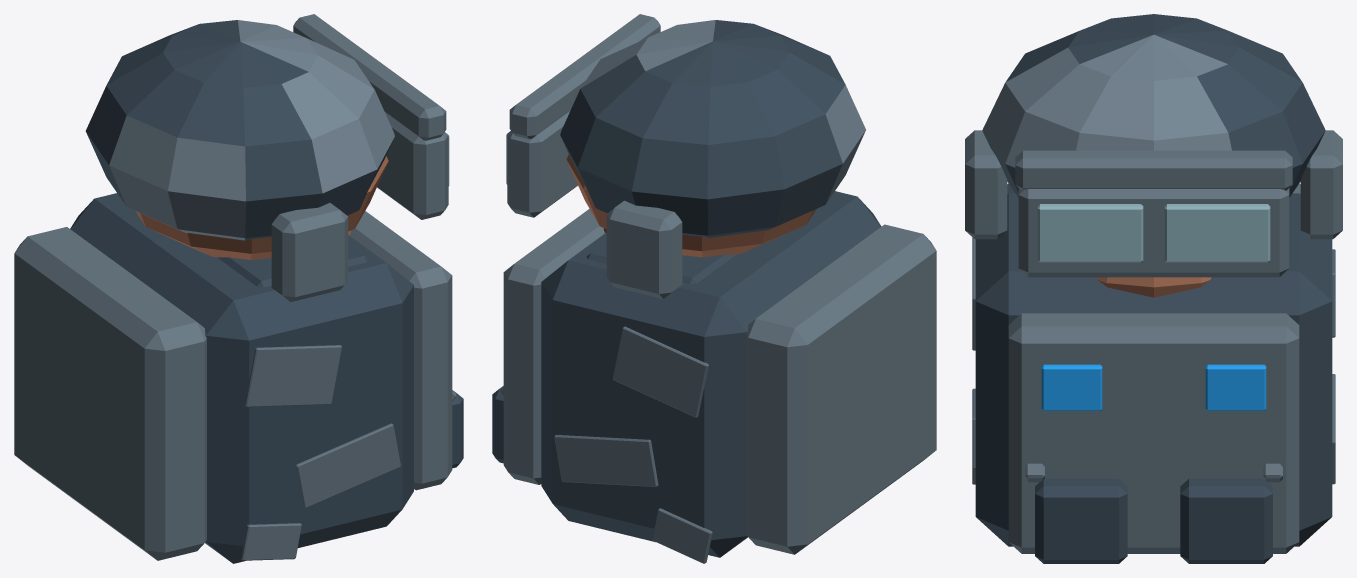
Rendered from blue-strike.carbon-camo.glb.
3 views of the same model, side by side, from view 1: azimuth 30°, elevation 25°; view 2: azimuth 150°, elevation 25°; view 3: azimuth 270°, elevation 25° (orthographic). The views are drawn at different scales.
Visible parts, largest first — view 1: blue-strike_carbon-camo__main__torso_finish_657682_0.03, blue-strike_carbon-camo__main__torso_finish_3c4d5b_0.03, blue-strike_carbon-camo__main__head_finish_3c4d5b_0.03|finis, blue-strike_carbon-camo__main__head_finish_657682_0.03, blue-strike_carbon-camo__main__torso_finish_60717e_0.03, blue-strike_carbon-camo__main__head_finish_a96f55_0.03; view 2: blue-strike_carbon-camo__main__torso_finish_657682_0.03, blue-strike_carbon-camo__main__torso_finish_3c4d5b_0.03, blue-strike_carbon-camo__main__head_finish_3c4d5b_0.03|finis, blue-strike_carbon-camo__main__head_finish_657682_0.03, blue-strike_carbon-camo__main__torso_finish_60717e_0.03, blue-strike_carbon-camo__main__head_finish_a96f55_0.03; view 3: blue-strike_carbon-camo__main__torso_finish_657682_0.03, blue-strike_carbon-camo__main__torso_finish_3c4d5b_0.03, blue-strike_carbon-camo__main__head_finish_3c4d5b_0.03|finis, blue-strike_carbon-camo__main__head_finish_657682_0.03, blue-strike_carbon-camo__main__head_finish_91b6c0_0.03, blue-strike_carbon-camo__main__torso_finish_25a8ff_0.03, blue-strike_carbon-camo__main__torso_finish_60717e_0.03, blue-strike_carbon-camo__main__head_finish_a96f55_0.03.
Part boxes in pixels (x1=…): blue-strike_carbon-camo__main__torso_finish_657682_0.03: x1=14, y1=211, x2=455, y2=560; blue-strike_carbon-camo__main__torso_finish_3c4d5b_0.03: x1=70, y1=193, x2=463, y2=563; blue-strike_carbon-camo__main__head_finish_3c4d5b_0.03|finis: x1=85, y1=20, x2=394, y2=240; blue-strike_carbon-camo__main__head_finish_657682_0.03: x1=271, y1=14, x2=448, y2=302; blue-strike_carbon-camo__main__torso_finish_60717e_0.03: x1=241, y1=345, x2=400, y2=560; blue-strike_carbon-camo__main__head_finish_a96f55_0.03: x1=135, y1=156, x2=388, y2=259; blue-strike_carbon-camo__main__torso_finish_657682_0.03: x1=499, y1=209, x2=936, y2=554; blue-strike_carbon-camo__main__torso_finish_3c4d5b_0.03: x1=492, y1=191, x2=881, y2=557; blue-strike_carbon-camo__main__head_finish_3c4d5b_0.03|finis: x1=560, y1=20, x2=865, y2=237; blue-strike_carbon-camo__main__head_finish_657682_0.03: x1=507, y1=14, x2=682, y2=298; blue-strike_carbon-camo__main__torso_finish_60717e_0.03: x1=554, y1=326, x2=712, y2=563; blue-strike_carbon-camo__main__head_finish_a96f55_0.03: x1=566, y1=154, x2=816, y2=257; blue-strike_carbon-camo__main__torso_finish_657682_0.03: x1=1007, y1=183, x2=1300, y2=553; blue-strike_carbon-camo__main__torso_finish_3c4d5b_0.03: x1=975, y1=193, x2=1332, y2=563; blue-strike_carbon-camo__main__head_finish_3c4d5b_0.03|finis: x1=982, y1=14, x2=1325, y2=197; blue-strike_carbon-camo__main__head_finish_657682_0.03: x1=965, y1=130, x2=1342, y2=277; blue-strike_carbon-camo__main__head_finish_91b6c0_0.03: x1=1037, y1=204, x2=1270, y2=262; blue-strike_carbon-camo__main__torso_finish_25a8ff_0.03: x1=1041, y1=364, x2=1266, y2=410; blue-strike_carbon-camo__main__torso_finish_60717e_0.03: x1=972, y1=237, x2=1335, y2=484; blue-strike_carbon-camo__main__head_finish_a96f55_0.03: x1=1096, y1=277, x2=1211, y2=297.
Bounding box in the file's own units: 30.25 × 39.5 × 28.6.
